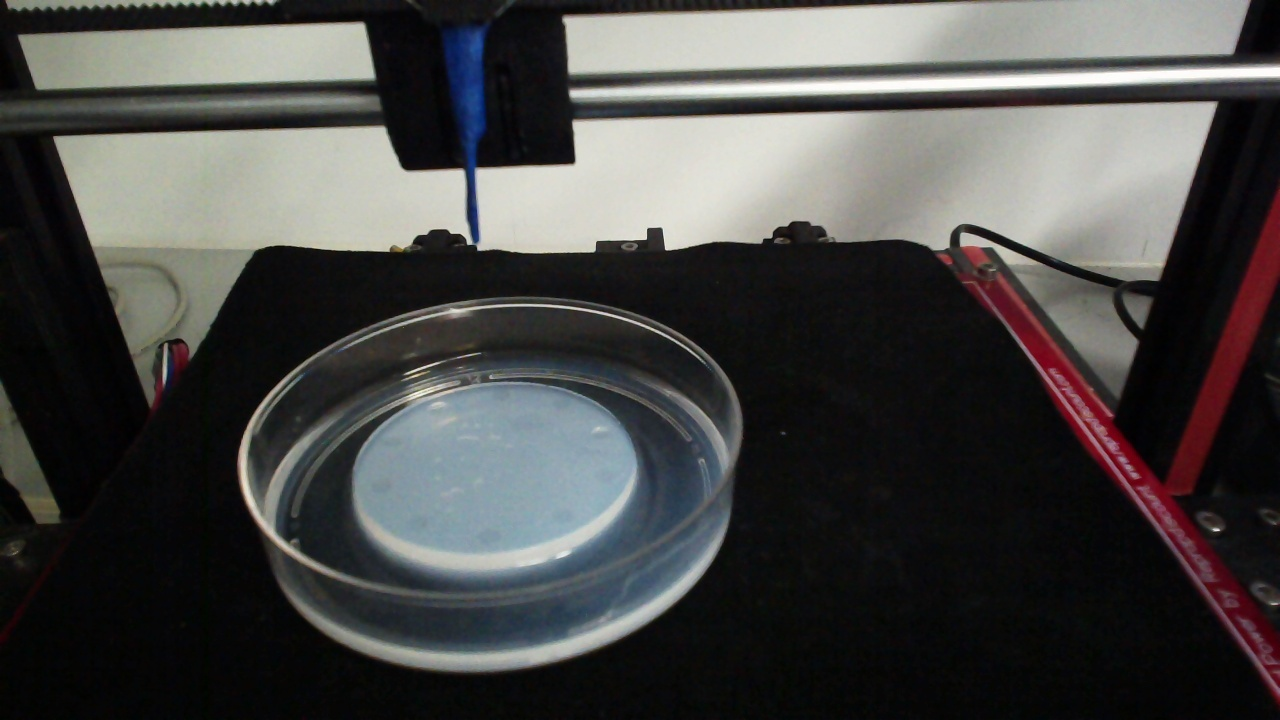groove: (590, 466, 617, 485), (549, 507, 577, 525), (367, 478, 393, 497), (475, 527, 500, 546), (381, 431, 403, 451), (425, 399, 449, 417), (404, 515, 428, 533), (489, 387, 514, 404), (551, 394, 574, 412), (589, 425, 612, 442)
needle: (445, 31, 482, 242)
